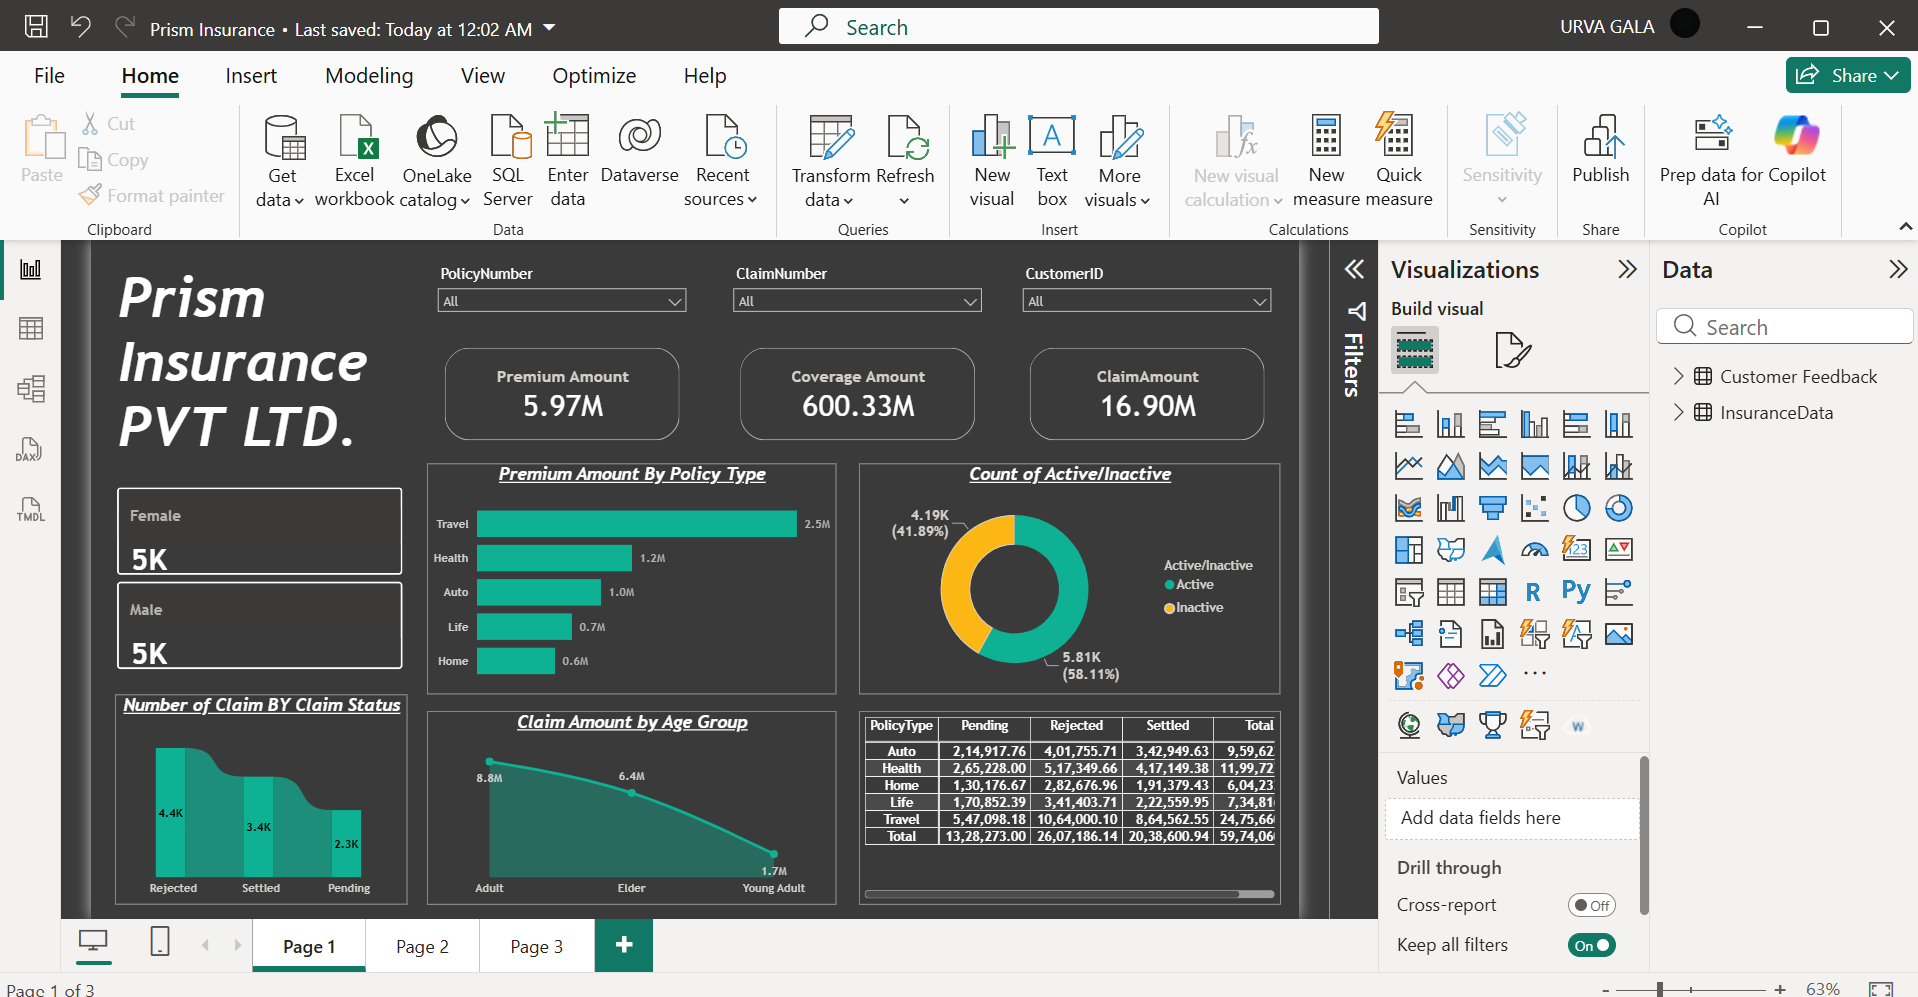

Layout of this report page (visuals, bound fields, positions):
{"tool":"powerbi","page":{"name":"Page 1","canvas":[1280,720],"ordinal":0},"visuals":[{"type":"slicer","fields":{"Values":["InsuranceData.PolicyNumber"]},"box":[357.2,20.8,283.5,75.6],"z":0},{"type":"slicer","fields":{"Values":["InsuranceData.ClaimNumber"]},"box":[670.9,20.8,283.5,75.6],"z":1000},{"type":"slicer","fields":{"Values":["InsuranceData.CustomerID"]},"box":[978.9,20.8,283.5,75.6],"z":2000},{"type":"textbox","box":[24.6,20.8,332.6,262.7],"z":3000},{"type":"cardVisual","fields":{"Data":["Sum(InsuranceData.PremiumAmount)"]},"box":[357.2,96.4,283.5,132.3],"z":4000},{"type":"cardVisual","fields":{"Data":["Sum(InsuranceData.CoverageAmount)"]},"box":[670.9,96.4,283.5,132.3],"z":5000},{"type":"cardVisual","fields":{"Data":["Sum(InsuranceData.ClaimAmount)"]},"box":[978.9,96.4,283.5,132.3],"z":6000},{"type":"cardVisual","fields":{"Rows":["InsuranceData.Gender"],"Data":["CountNonNull(InsuranceData.Gender)"]},"box":[22.3,237,313.4,245],"z":7000},{"type":"ribbonChart","title":"Number of Claim BY Claim Status","fields":{"Category":["InsuranceData.ClaimStatus"],"Y":["CountNonNull(InsuranceData.ClaimStatus)"]},"box":[25.4,482,310.2,222.7],"z":8000},{"type":"barChart","title":"Premium Amount By Policy Type","fields":{"Category":["InsuranceData.PolicyType"],"Y":["Sum(InsuranceData.PremiumAmount)"]},"box":[356.3,237,434.2,245],"z":9000},{"type":"lineChart","title":"Claim Amount by Age Group","fields":{"Category":["InsuranceData.Age Group"],"Y":["Sum(InsuranceData.ClaimAmount)"]},"box":[356.3,499.5,434.2,205.2],"z":10000},{"type":"donutChart","title":"Count of Active/Inactive","fields":{"Category":["InsuranceData.Active/Inactive"],"Y":["CountNonNull(InsuranceData.Active/Inactive)"]},"box":[814.4,237,447,245],"z":11000},{"type":"pivotTable","fields":{"Values":["Sum(InsuranceData.PremiumAmount)"],"Rows":["InsuranceData.PolicyType"],"Columns":["InsuranceData.ClaimStatus"]},"box":[814,499,447,205],"z":12000}]}

Visuals, with their boxes on the page's 1280x720 design canvas (x1, y1, x2, y2). These are canvas units, not pixel positions in the 1918x997 screenshot, which may show the page scaled, cropped or inside an application window:
slicer - InsuranceData.PolicyNumber: detection(357, 21, 641, 96)
slicer - InsuranceData.ClaimNumber: detection(671, 21, 954, 96)
slicer - InsuranceData.CustomerID: detection(979, 21, 1262, 96)
textbox: detection(25, 21, 357, 284)
cardVisual - Sum(InsuranceData.PremiumAmount): detection(357, 96, 641, 229)
cardVisual - Sum(InsuranceData.CoverageAmount): detection(671, 96, 954, 229)
cardVisual - Sum(InsuranceData.ClaimAmount): detection(979, 96, 1262, 229)
cardVisual - InsuranceData.Gender x CountNonNull(InsuranceData.Gender): detection(22, 237, 336, 482)
"Number of Claim BY Claim Status" ribbonChart: detection(25, 482, 336, 705)
"Premium Amount By Policy Type" barChart: detection(356, 237, 790, 482)
"Claim Amount by Age Group" lineChart: detection(356, 500, 790, 705)
"Count of Active/Inactive" donutChart: detection(814, 237, 1261, 482)
pivotTable - Sum(InsuranceData.PremiumAmount) x InsuranceData.PolicyType: detection(814, 499, 1261, 704)
